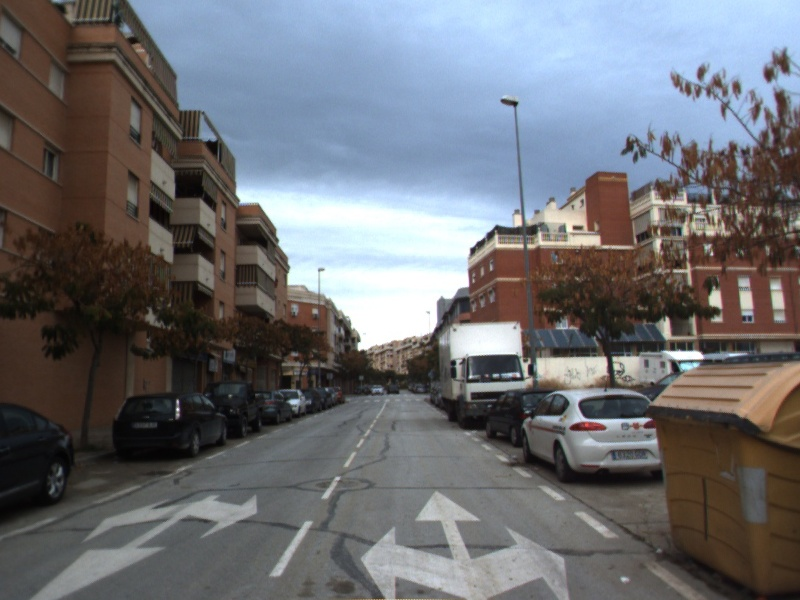STRAIGHT_LEFT_RIGHT: (357, 484, 572, 600)
